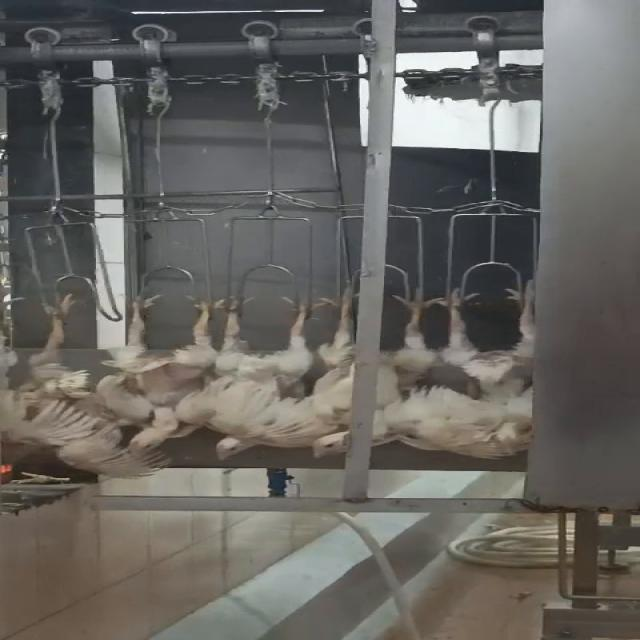chicken: (0, 285, 167, 479), (105, 288, 229, 459), (439, 279, 541, 463), (212, 294, 304, 460), (284, 286, 358, 456), (379, 280, 440, 452)
